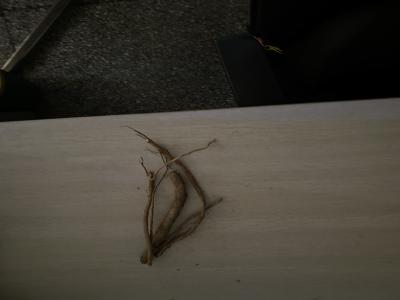Root: (134, 130, 222, 266), (174, 161, 203, 196)
